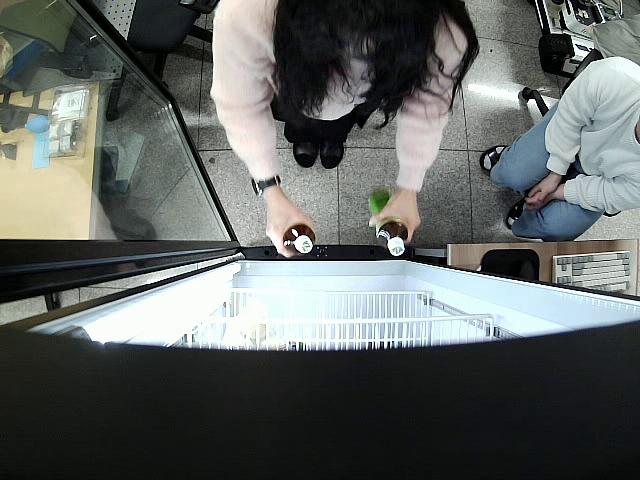00_hand: (265, 193, 319, 259), (367, 191, 421, 245)
19_17cha: (365, 189, 409, 256), (282, 223, 317, 256)
